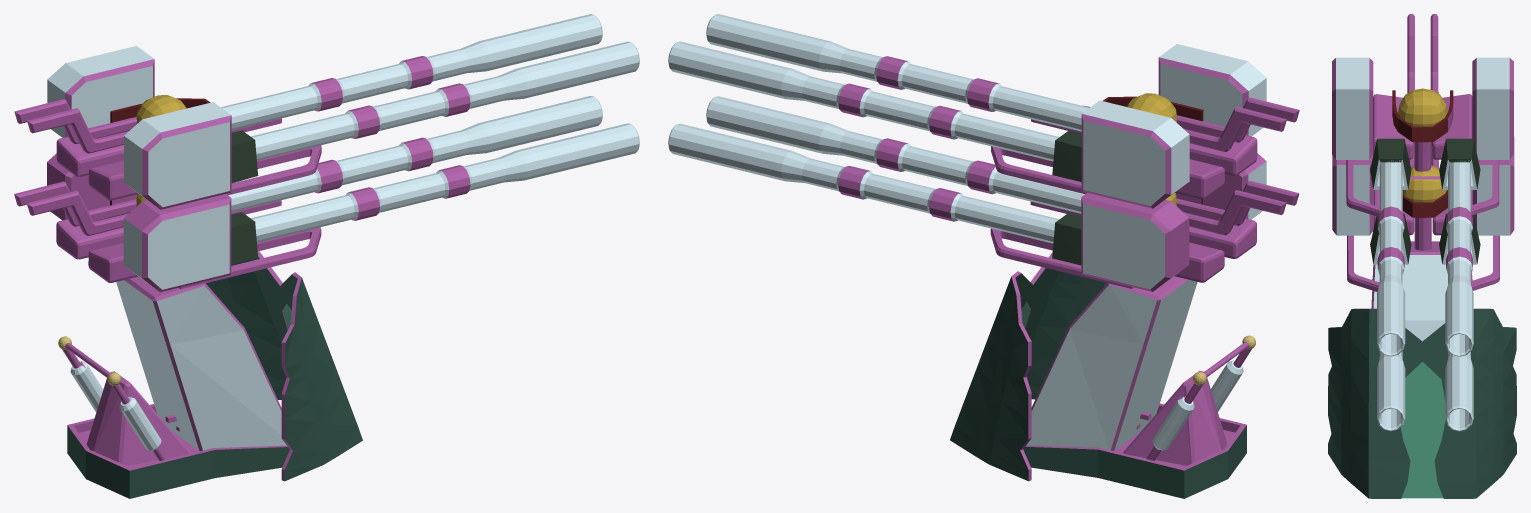
File: Turret-Type1-4.fbx
3 views of the same model, side by side, from view 1: azimuth 30°, elevation 25°; view 2: azimuth 150°, elevation 25°; view 3: azimuth 270°, elevation 25° (orthographic). The views are drawn at different scales.
Parts seen in each view (by area): view 1: auto_turret:attack, auto_turret7:base; view 2: auto_turret:attack, auto_turret7:base; view 3: auto_turret:attack, auto_turret7:base.
Part boxes in pixels (x1,y1,x2,y2): auto_turret:attack: (14,14,639,292); auto_turret7:base: (58,251,362,498); auto_turret:attack: (668,14,1299,291); auto_turret7:base: (950,252,1255,498); auto_turret:attack: (1332,14,1514,431); auto_turret7:base: (1328,241,1516,498).
Bounding box in the file's own units: 115 × 69.74 × 34.5.
